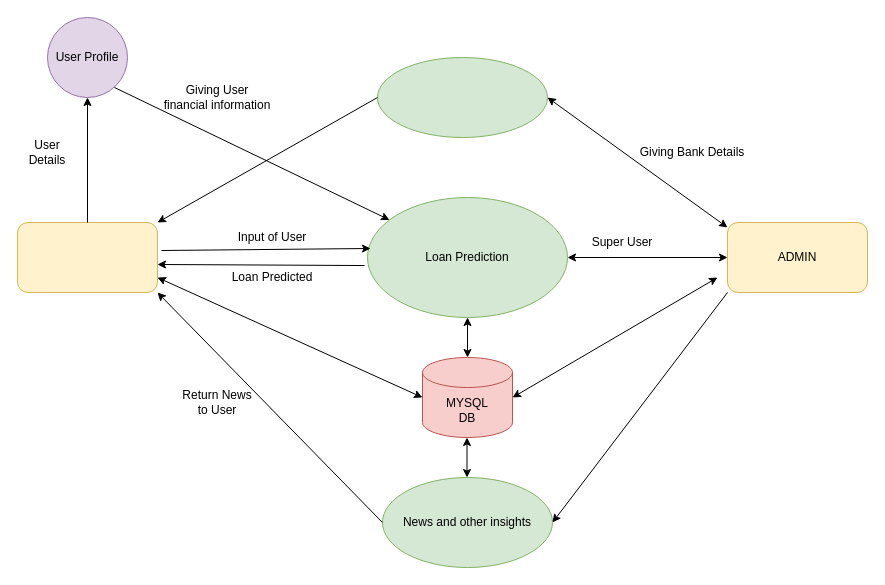
Image size: 885x585. Some labels were removed from this diagram. Each missing label, with the centre of its shape:
Comapring Different Banks: [462,97]
USER: [87,257]
